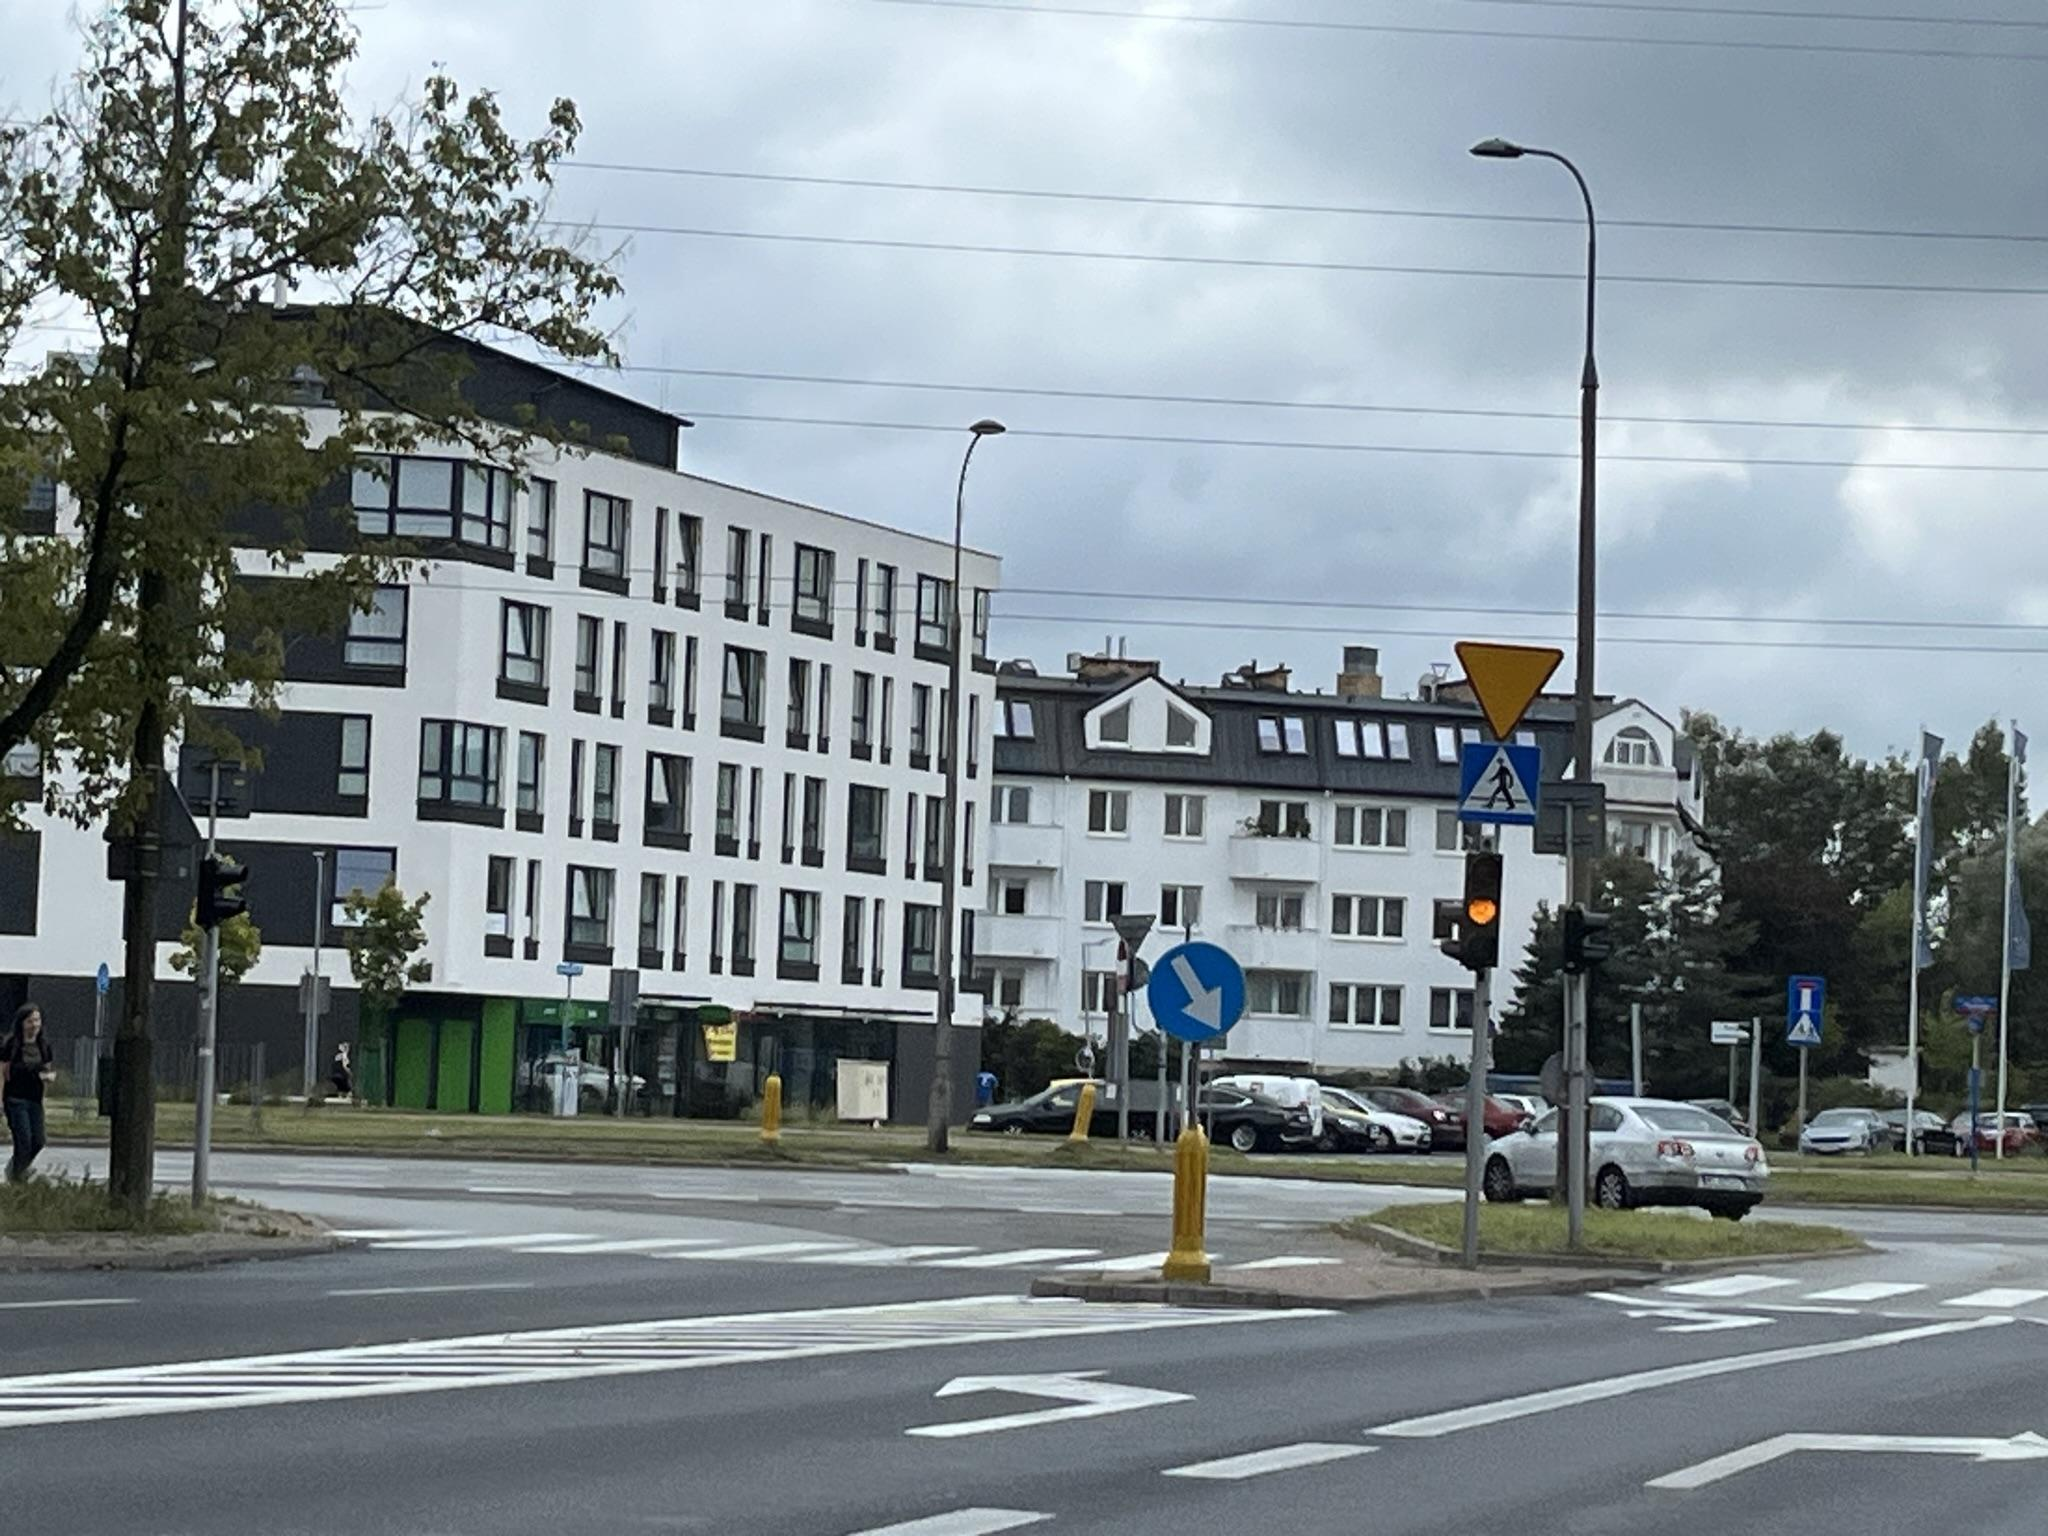information: (1456, 741, 1542, 829), (1784, 1008, 1825, 1049), (1788, 973, 1825, 1013)
mandatory: (1145, 941, 1248, 1047), (97, 963, 110, 997)
warning: (1455, 641, 1566, 744)
